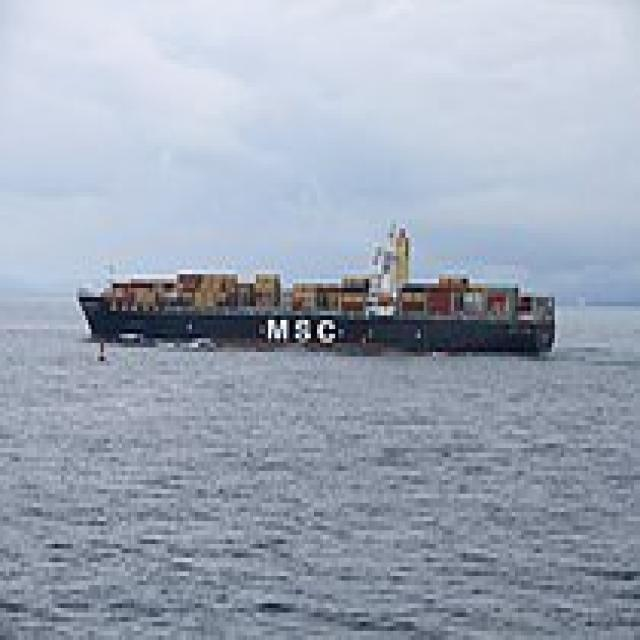Ship: (71, 216, 562, 372)
